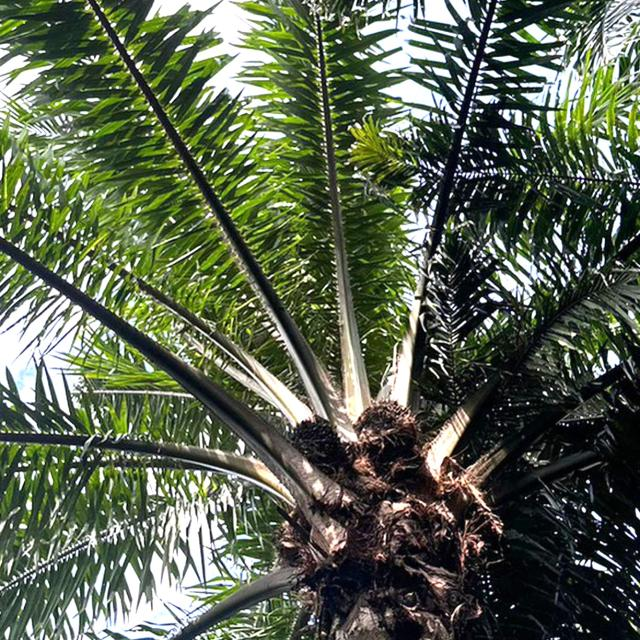almost: (352, 399, 422, 464), (290, 416, 344, 474)
